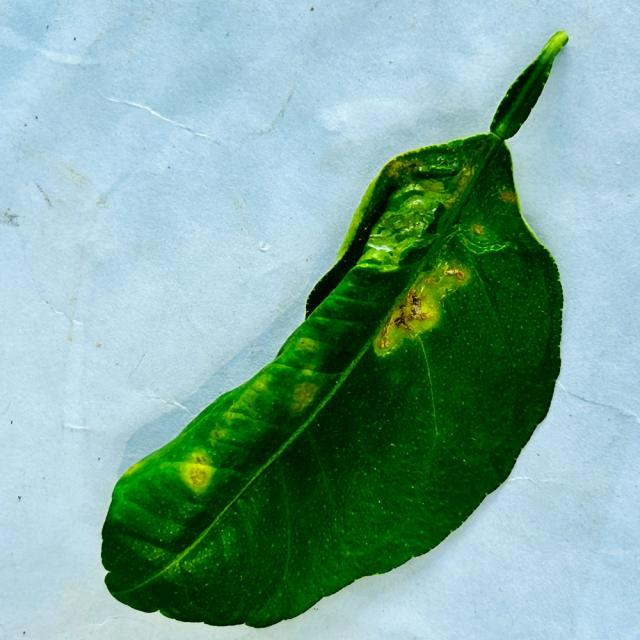Anthracnose: (372, 278, 437, 361), (291, 382, 319, 414), (377, 314, 397, 349), (187, 465, 209, 487), (444, 267, 464, 280), (500, 190, 517, 203), (409, 300, 422, 317), (473, 224, 485, 235)
Lemon: (99, 32, 568, 630)
